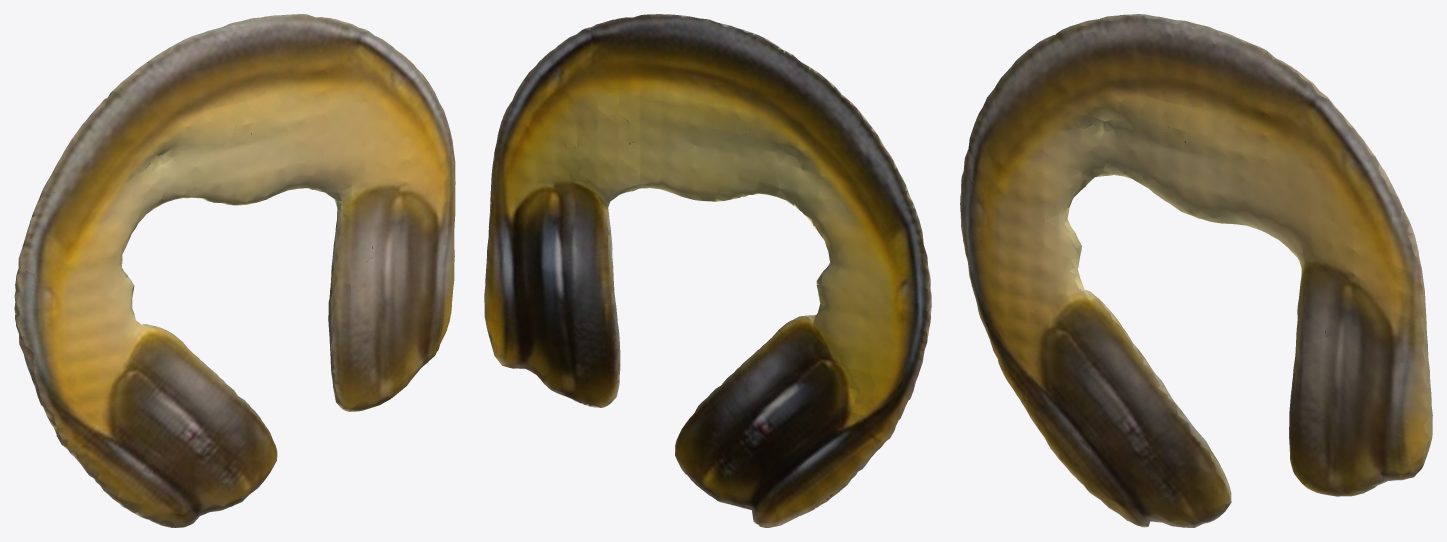
File: electronics.glb
The picture shows the model from 3 angles, left to right: view 1: azimuth 30°, elevation 25°; view 2: azimuth 150°, elevation 25°; view 3: azimuth 330°, elevation 25°; orthographic projection. The views are drawn at different scales.
Parts seen in each view (by area): view 1: world; view 2: world; view 3: world.
Boxes of the visible parts, <box> form: world: <box>14,14,455,527</box>; world: <box>484,14,931,527</box>; world: <box>960,14,1432,527</box>.
Size of the model in its own units: 0.918 by 0.9776 by 0.0734.
Materials: 1 (1 with a texture image).
